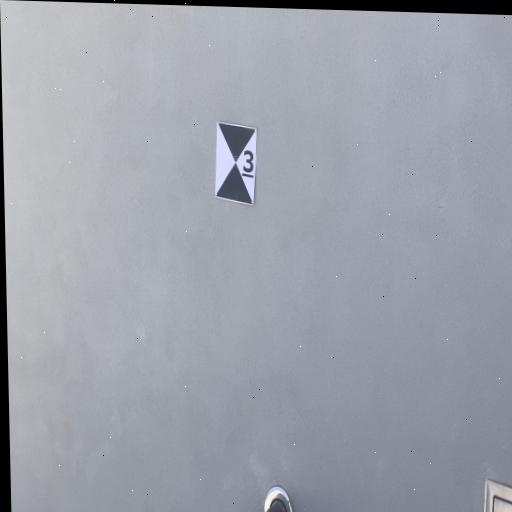target3: (214, 121, 257, 207)
